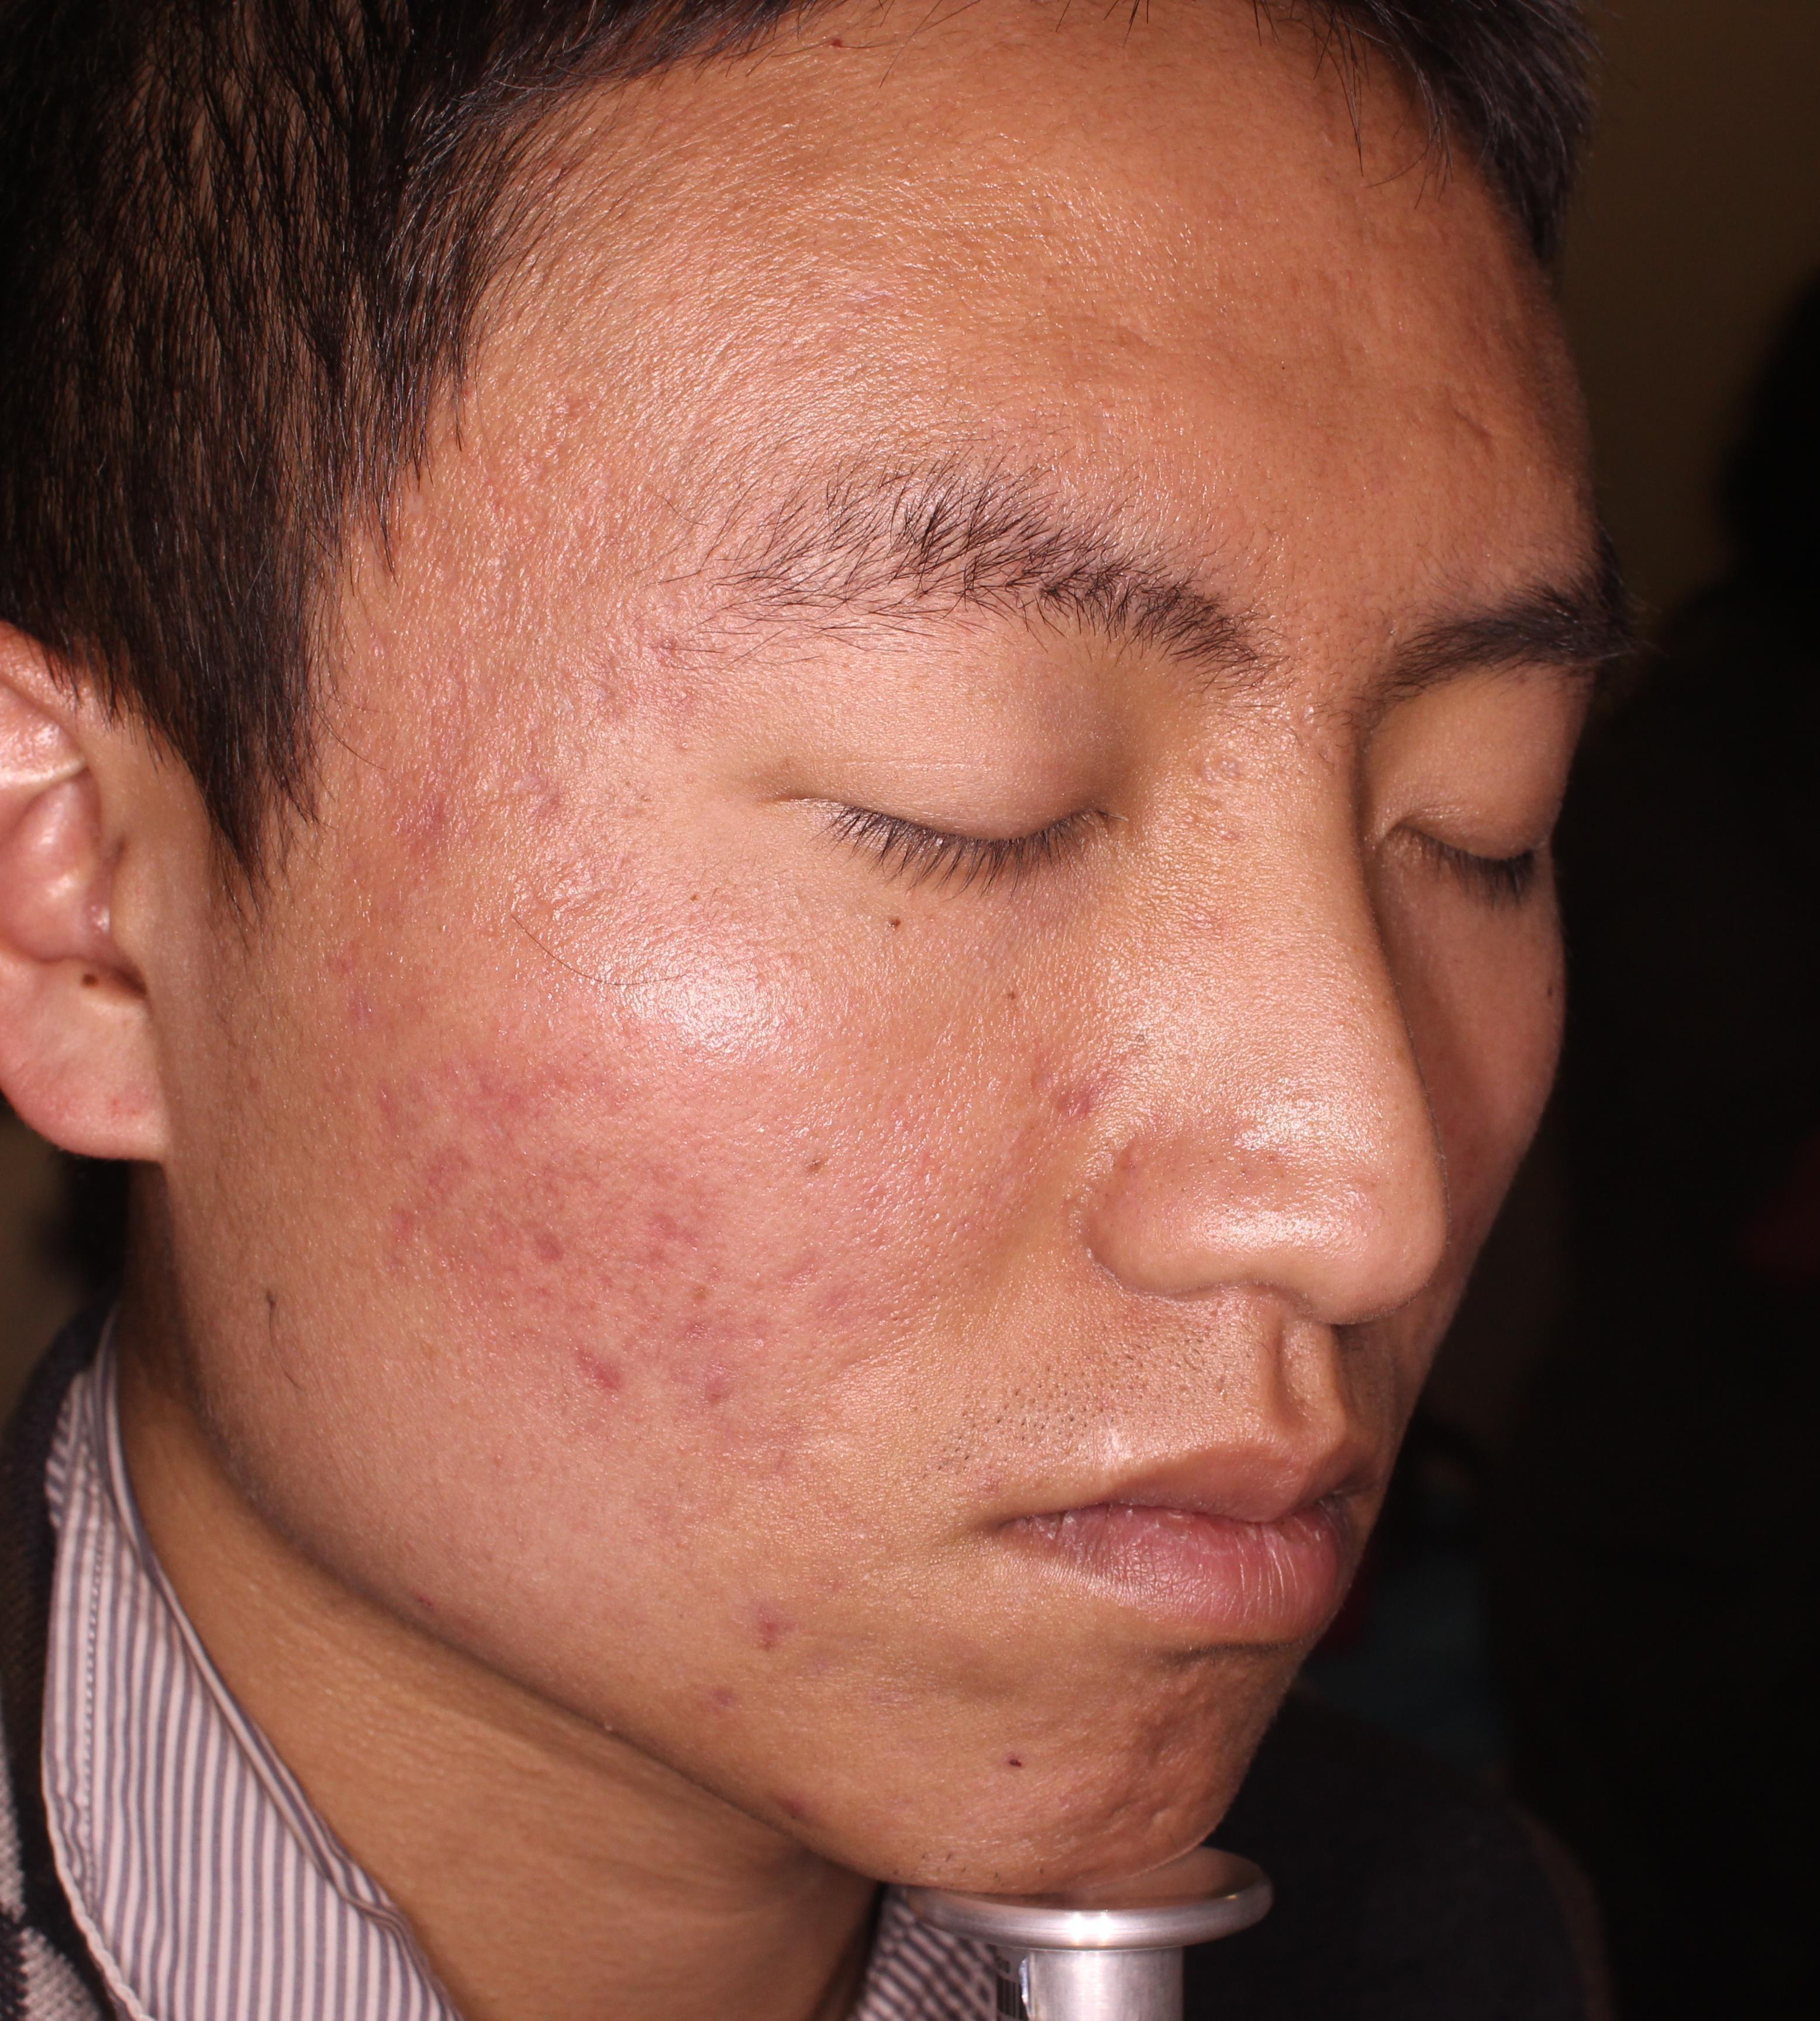fore: (378, 766, 494, 899), (727, 1768, 861, 1854), (661, 1320, 750, 1433), (606, 1185, 727, 1262), (516, 1190, 583, 1312), (736, 1594, 803, 1679), (655, 1254, 731, 1326), (566, 1315, 629, 1396), (678, 1652, 745, 1710)
